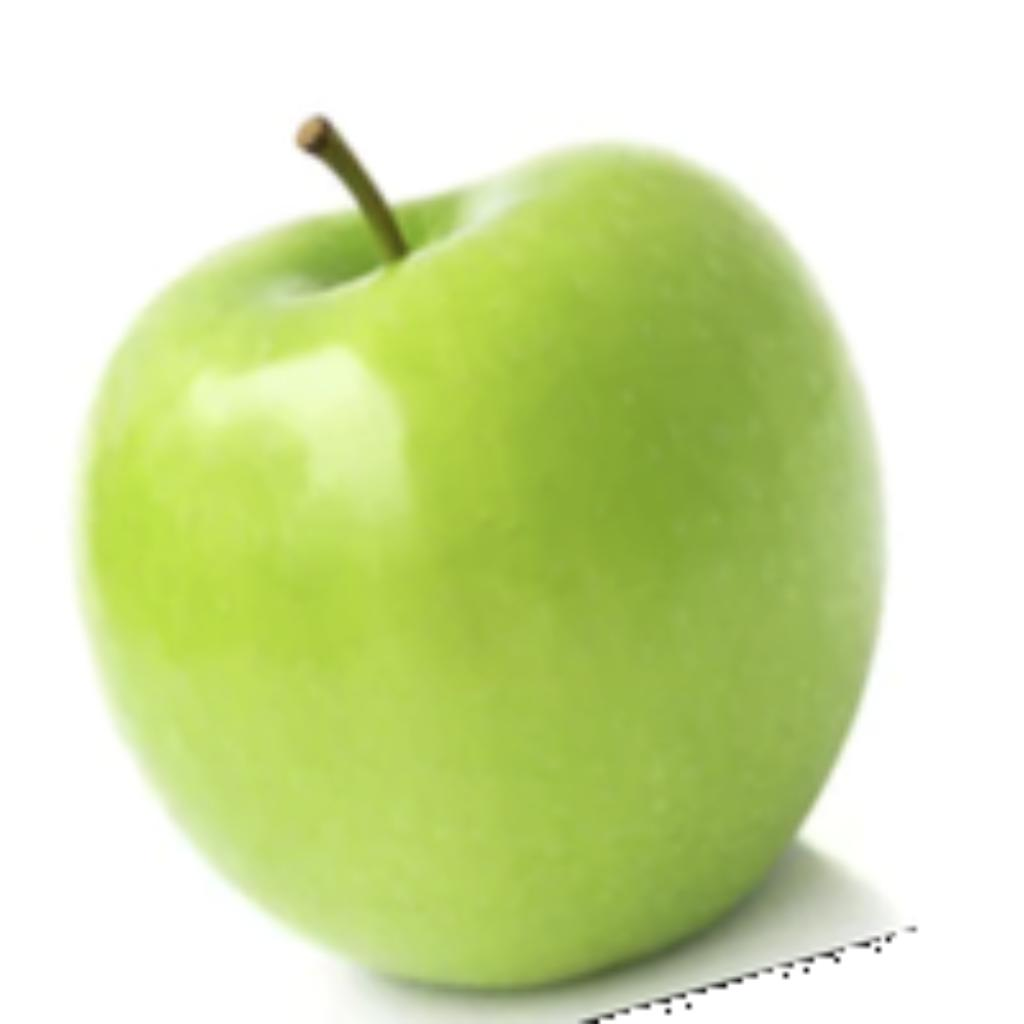apple: (61, 108, 906, 1019)
